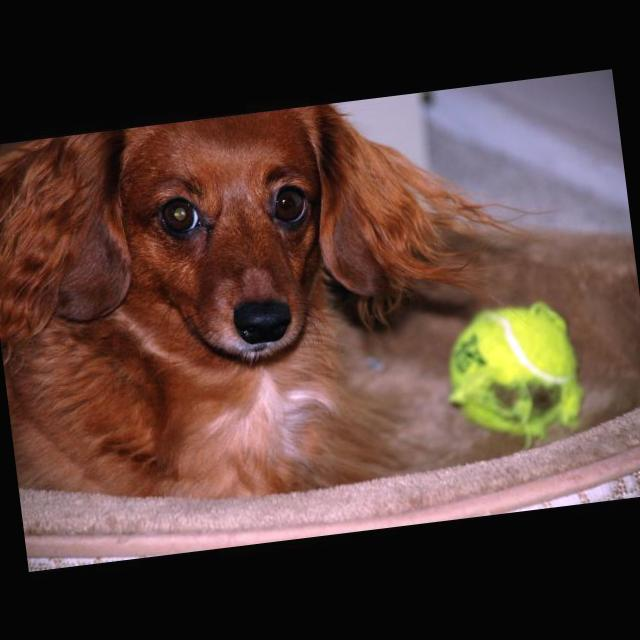Tennis Ball: (444, 297, 579, 436)
